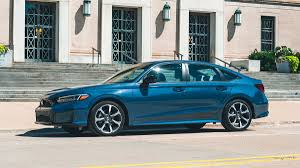car: (35, 55, 269, 137)
